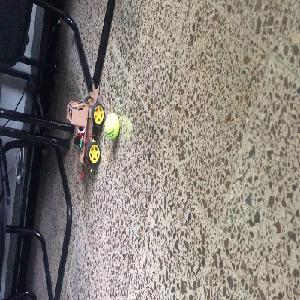Ball: (103, 113, 119, 139)
Robot: (66, 83, 104, 167)
